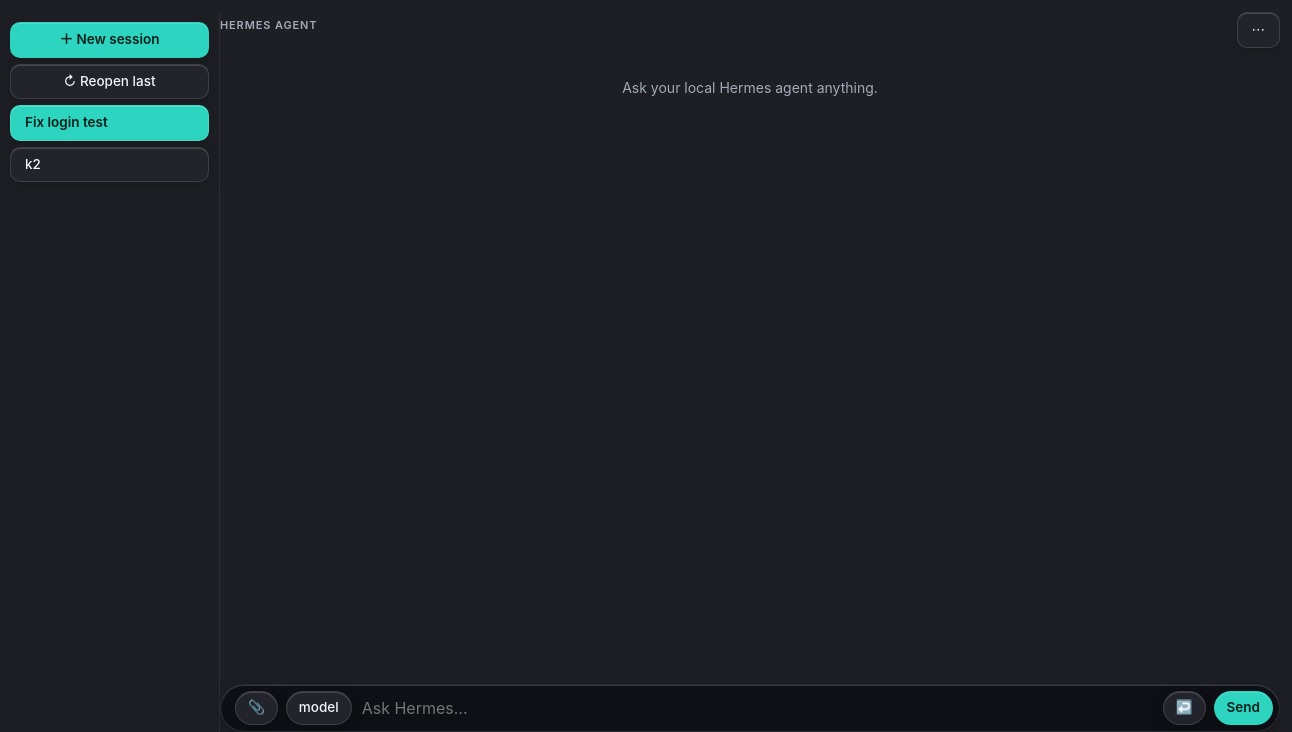
it: HermesTab › New session button creates a fresh session and clears the transcript
The width and height of the screenshot is (1292, 732).
Type "hello" into the field with placeholder "Ask Hermes…" at point(757, 708), box [360, 696, 1155, 721]
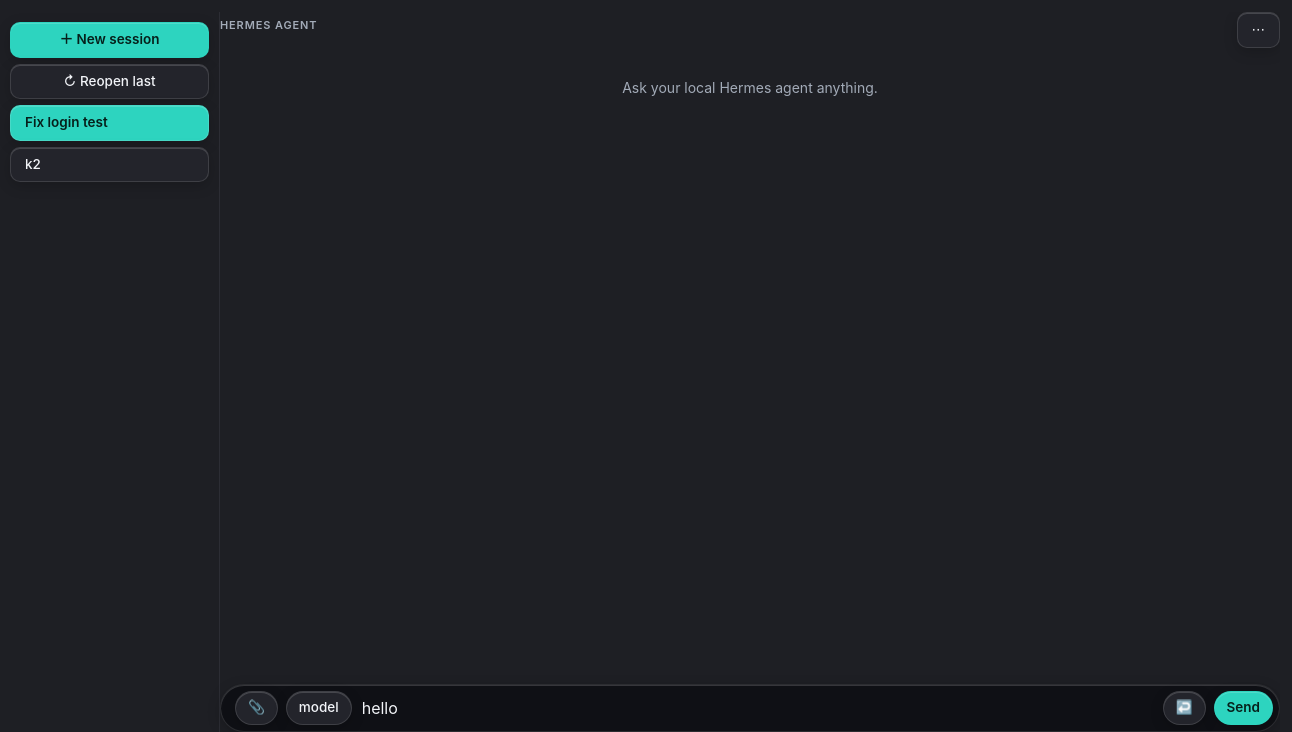
Press Enter in the field with placeholder "Ask Hermes…", box [360, 696, 1155, 721]
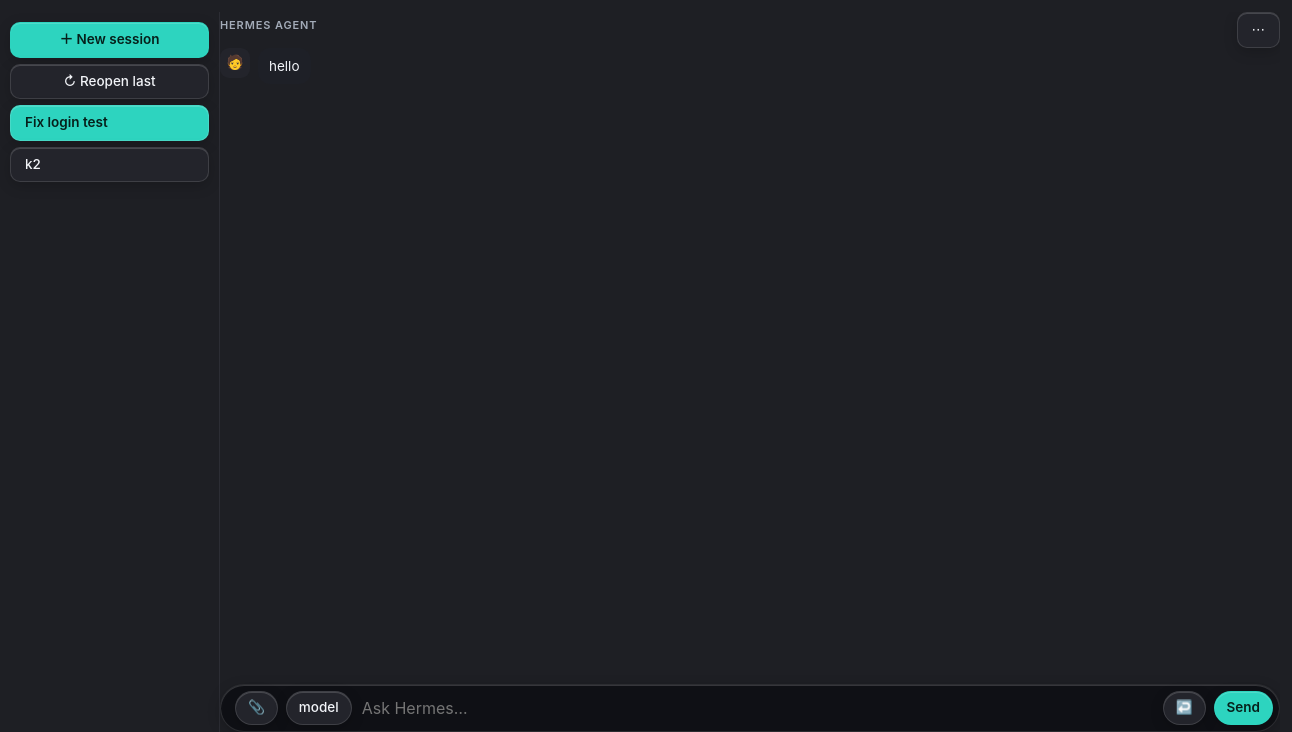
Now the text "hello" is shown, box [269, 58, 300, 74]
Click the button "＋ New session" at point(110, 40), box [10, 22, 209, 58]
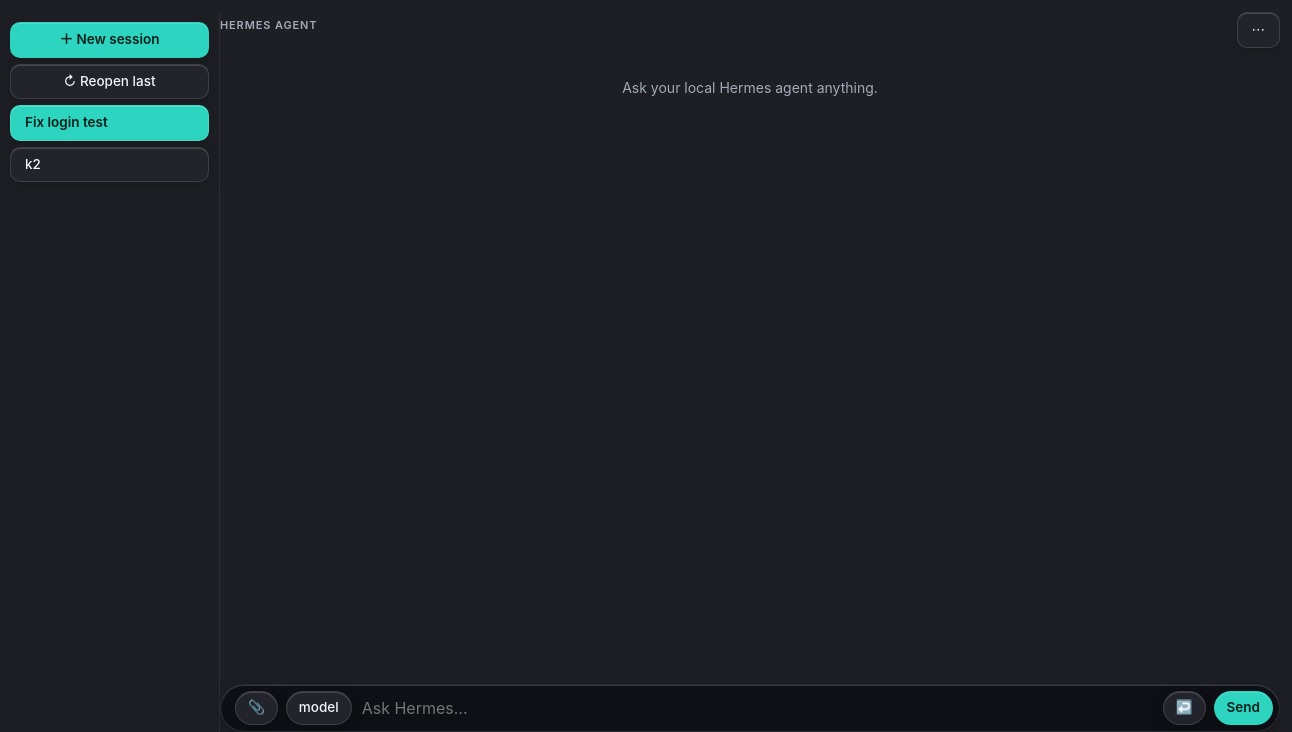
Now the text "hello" is gone
